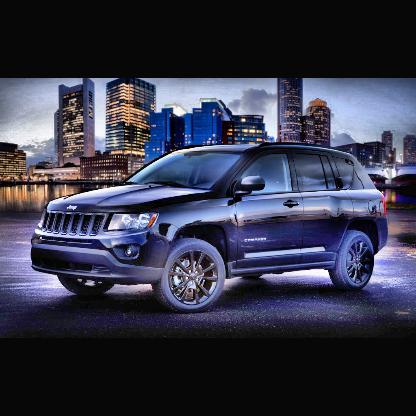Jeep Compass SUV 2012: (32, 143, 389, 317)
